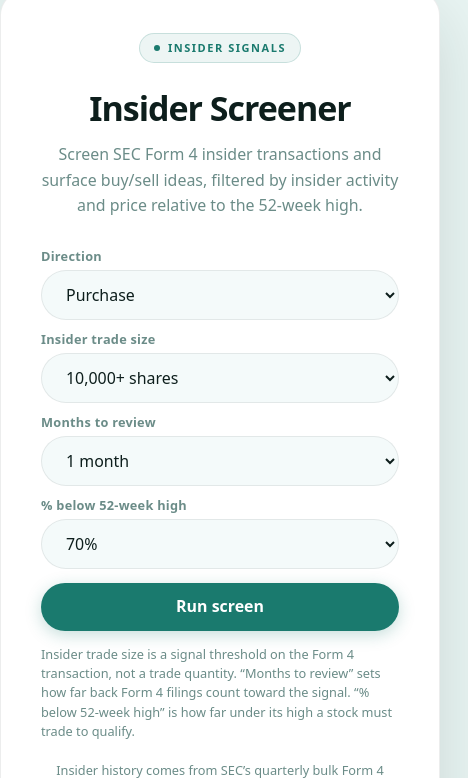
InsiderScreener results › expands a row to show its contributing filings, and collapses it again
Click the button "Run screen".
click(220, 607)  # box [41,583,399,631]
(page scrolled)
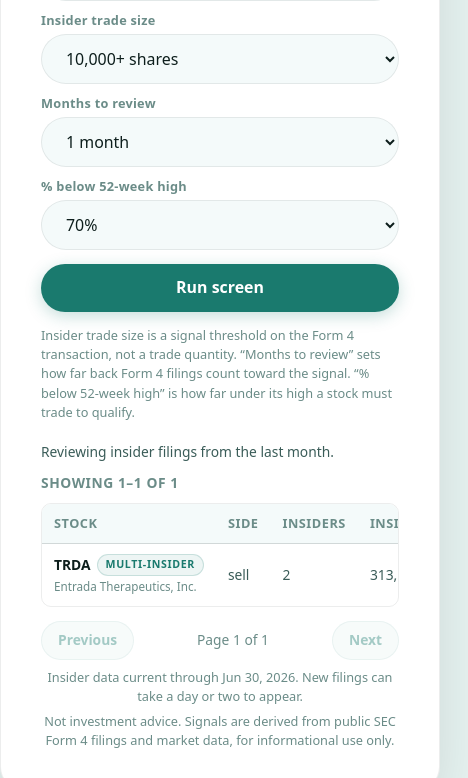
Click the button "TRDA multi-insider".
click(129, 565)  # box [54,554,204,576]
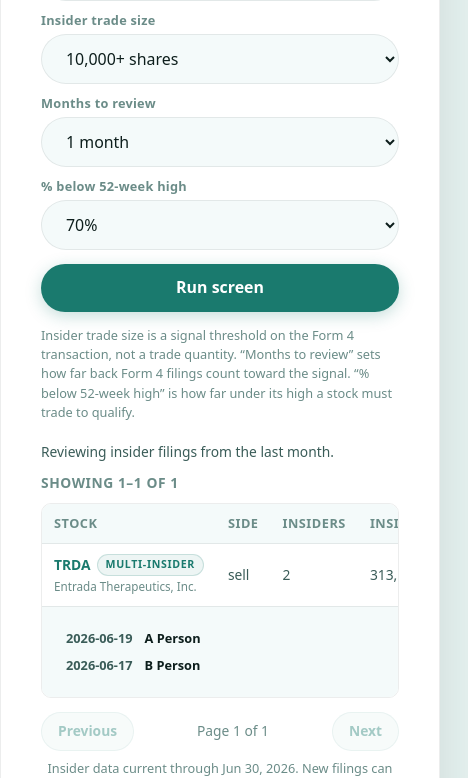
Expected: the text "A Person" is shown, [145,629,201,647]
Expected: the button "TRDA multi-insider" is expanded
Click the button "TRDA multi-insider".
click(129, 565)  # box [54,554,204,576]
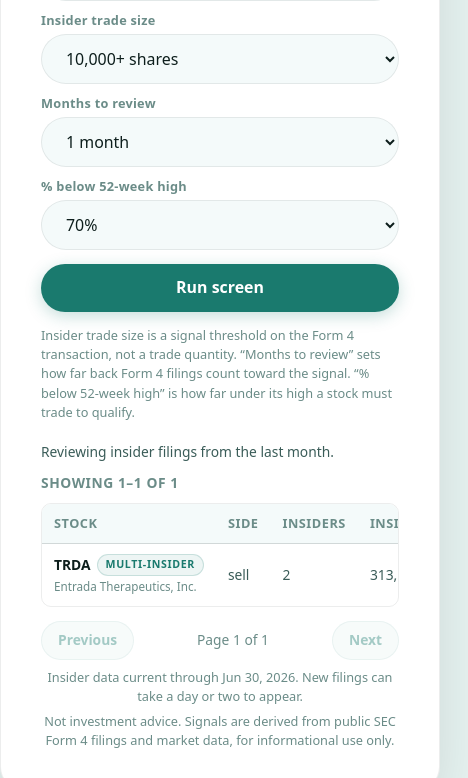
Expected: the list with test id "screener-filings" is gone
